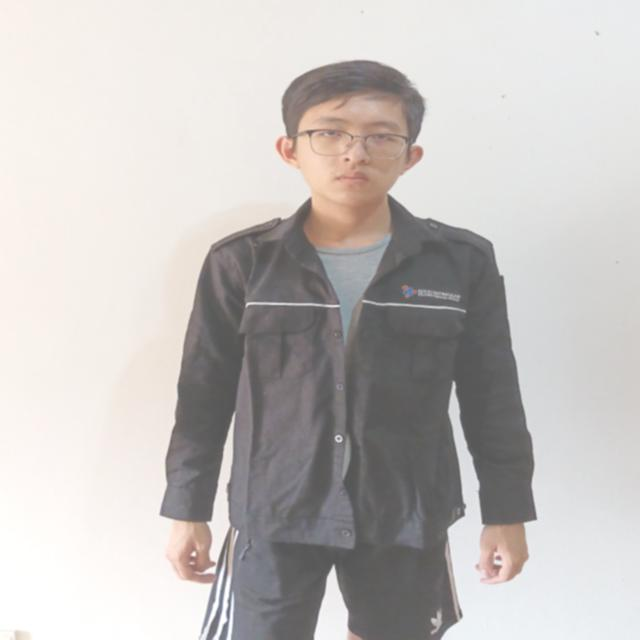person_with_labcoat: (161, 61, 536, 640)
